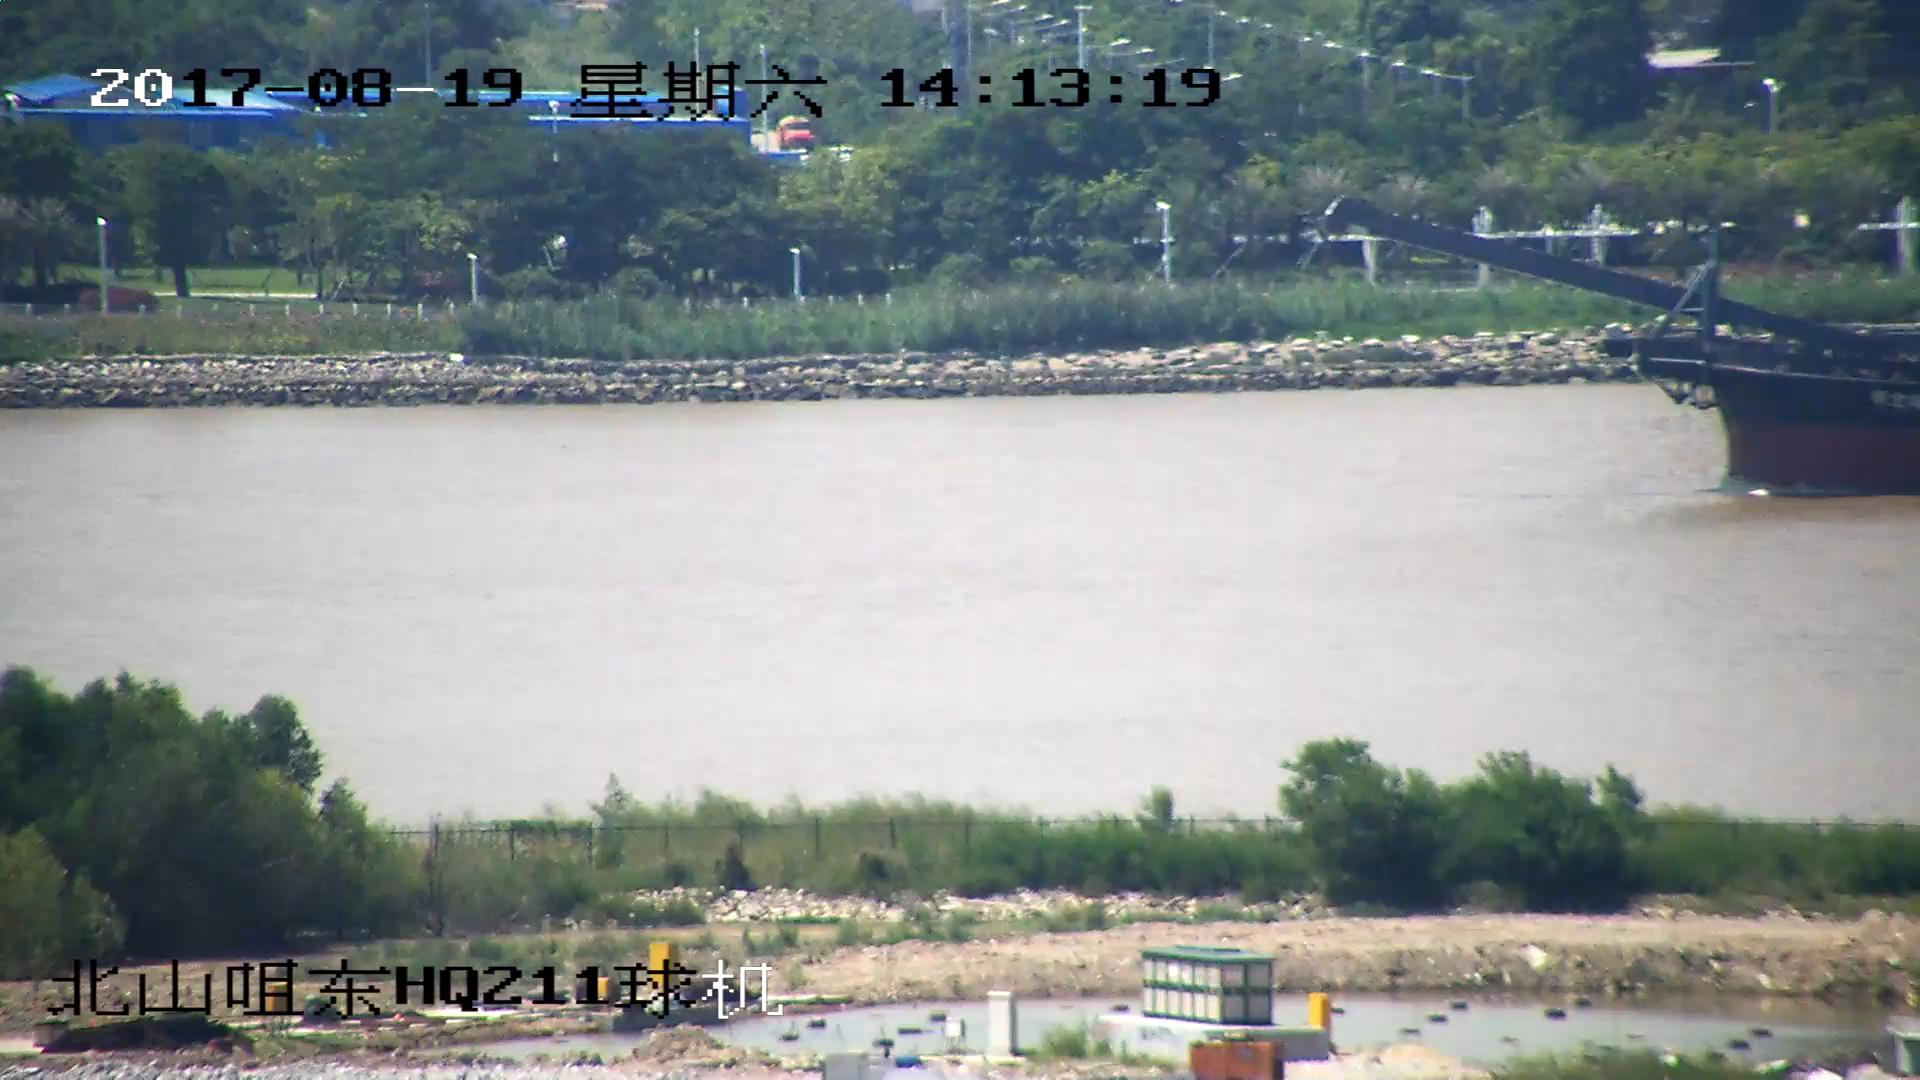bulk cargo carrier: (1330, 198, 1920, 497)
